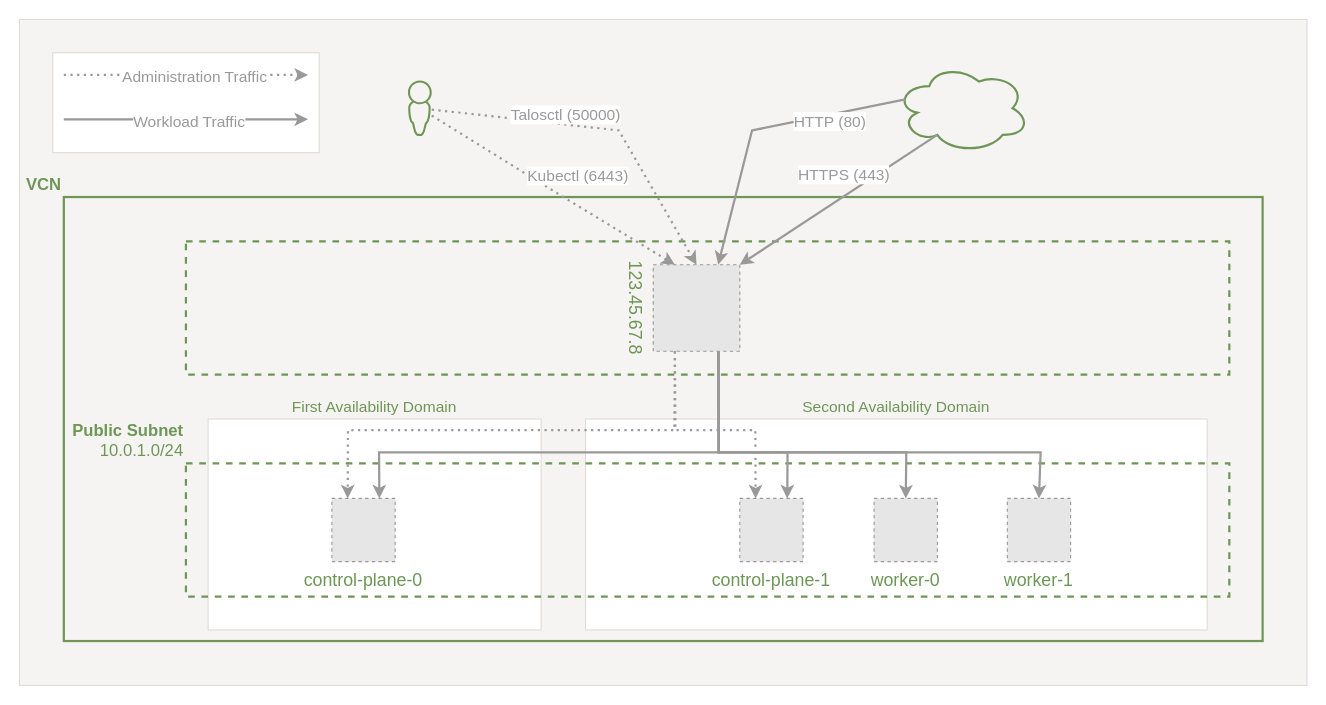
This 1326x705 diagram has some shape labels left out. Grey dashed boxes stand in for pictures. Each missing label, with the box of its shape:
Cluster Administrator: (407, 80, 431, 135)
Internet: (894, 62, 1030, 153)
Key: (52, 52, 319, 153)
Public Subnet 10.0.0.0/24: (184, 240, 1230, 375)
